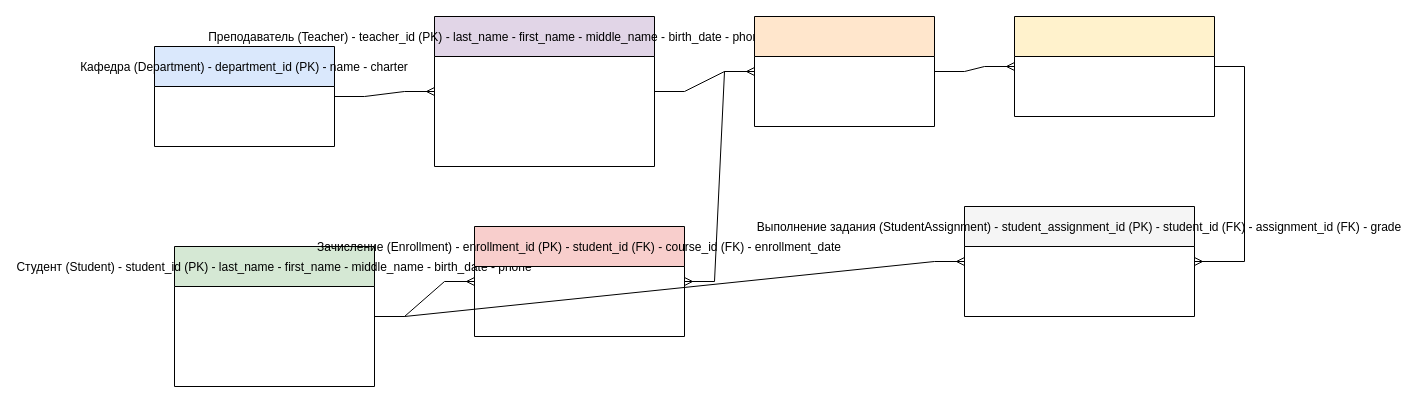
This 1418x403 diagram has some shape labels left out. Here are the shapes that lost their labels. From the top down, the centre of each, then its label:
At (x=844, y=71): "Курс (Course) - course_id (PK) - title - hours - teacher_id (FK)".
At (x=1114, y=66): "Домашнее задание (Assignment) - assignment_id (PK) - course_id (FK) - task".
